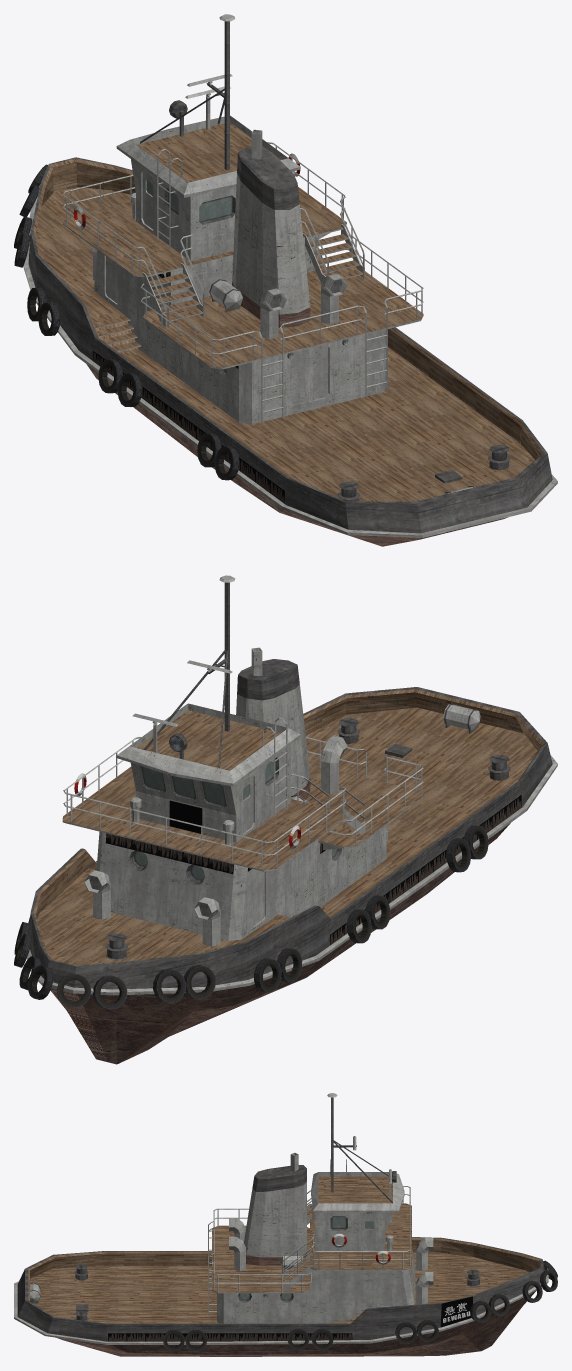
Rendered from boat-0.glb.
3 renders of one model, top to bottom at view 1: azimuth 30°, elevation 25°; view 2: azimuth 150°, elevation 25°; view 3: azimuth 270°, elevation 25°, orthographic. The views are drawn at different scales.
Visible parts, largest first — view 1: Object_deck_woo.jpg, Object_top_body.jpg, Object_tug_body.jpg, Object_tug_mix.jpg, Object_bottom_b.jpg, Object_tug_deca.jpg, Object_tug_glas.jpg; view 2: Object_deck_woo.jpg, Object_top_body.jpg, Object_tug_body.jpg, Object_bottom_b.jpg, Object_tug_mix.jpg, Object_tug_deca.jpg, Object_tug_glas.jpg; view 3: Object_deck_woo.jpg, Object_top_body.jpg, Object_tug_body.jpg, Object_bottom_b.jpg, Object_tug_mix.jpg, Object_tug_deca.jpg, Object_tug_glas.jpg.
Boxes of the visible parts, x1,y1,x2,y2 form: Object_deck_woo.jpg: [33, 122, 543, 501]; Object_top_body.jpg: [23, 14, 557, 537]; Object_tug_body.jpg: [28, 21, 552, 533]; Object_tug_mix.jpg: [14, 153, 348, 480]; Object_bottom_b.jpg: [86, 282, 508, 546]; Object_tug_deca.jpg: [93, 272, 284, 503]; Object_tug_glas.jpg: [146, 180, 232, 372]; Object_deck_woo.jpg: [33, 689, 543, 965]; Object_top_body.jpg: [27, 575, 557, 995]; Object_tug_body.jpg: [29, 582, 552, 989]; Object_bottom_b.jpg: [50, 777, 510, 1064]; Object_tug_mix.jpg: [14, 736, 488, 1009]; Object_tug_deca.jpg: [105, 795, 521, 945]; Object_tug_glas.jpg: [134, 759, 337, 880]; Object_deck_woo.jpg: [28, 1176, 541, 1323]; Object_top_body.jpg: [14, 1093, 548, 1344]; Object_tug_body.jpg: [17, 1097, 545, 1341]; Object_bottom_b.jpg: [56, 1252, 536, 1356]; Object_tug_mix.jpg: [163, 1212, 557, 1351]; Object_tug_deca.jpg: [108, 1296, 472, 1341]; Object_tug_glas.jpg: [239, 1217, 374, 1300].
Bounding box in the file's own units: 1 × 1.48 × 2.81.
7 materials, 7 textured.
